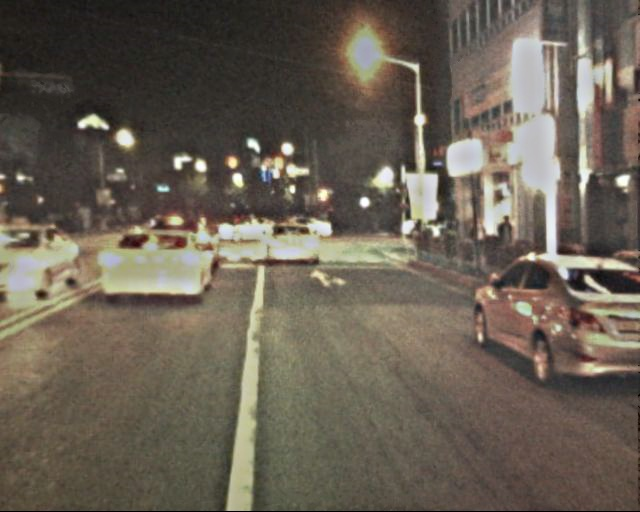person: (61, 204, 128, 235), (496, 216, 521, 276), (471, 218, 489, 261)
